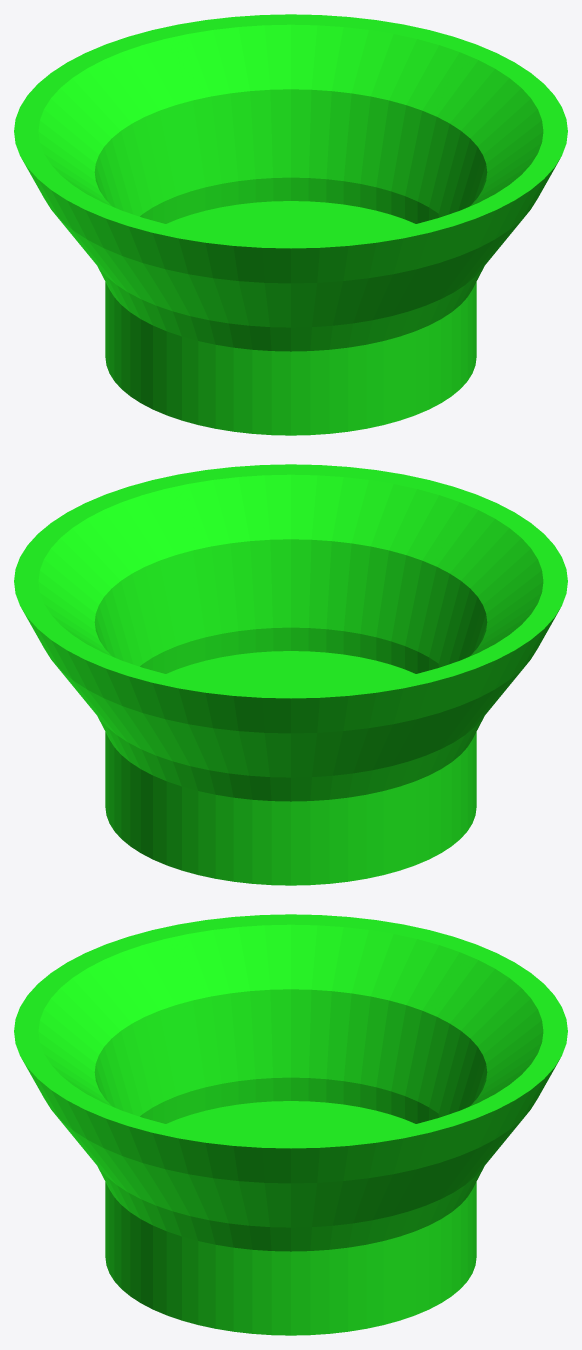
The model's file is bowl.gltf.
3 renders of one model, top to bottom at view 1: azimuth 30°, elevation 25°; view 2: azimuth 150°, elevation 25°; view 3: azimuth 270°, elevation 25°, orthographic.
Parts seen in each view (by area): view 1: Cylinder; view 2: Cylinder; view 3: Cylinder.
Boxes of the visible parts, x1=… form: Cylinder: x1=14, y1=14, x2=567, y2=435; Cylinder: x1=14, y1=464, x2=567, y2=885; Cylinder: x1=14, y1=914, x2=567, y2=1335.
Bounding box in the file's own units: 0.8955 × 0.4026 × 0.8955.
Materials: 1 (1 with a texture image).
